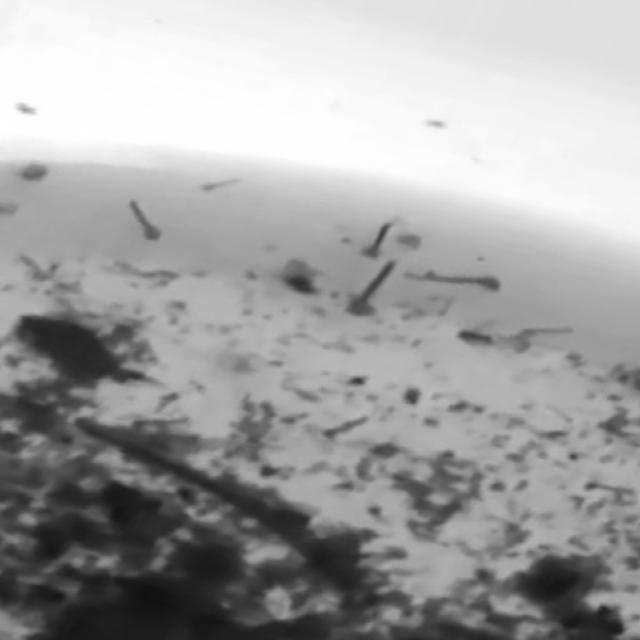larvas: (355, 261, 393, 311), (425, 271, 497, 292), (131, 196, 158, 240), (119, 262, 174, 283), (366, 220, 394, 253), (198, 175, 235, 194), (521, 323, 567, 338)
